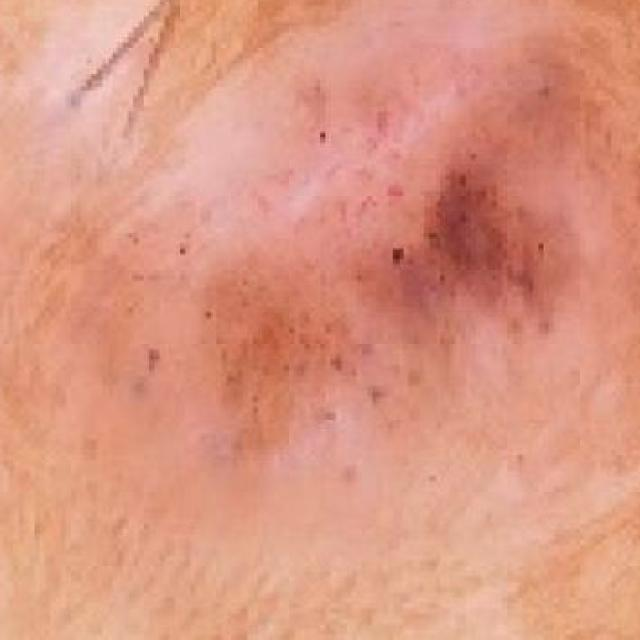BCC: (58, 0, 640, 544)
